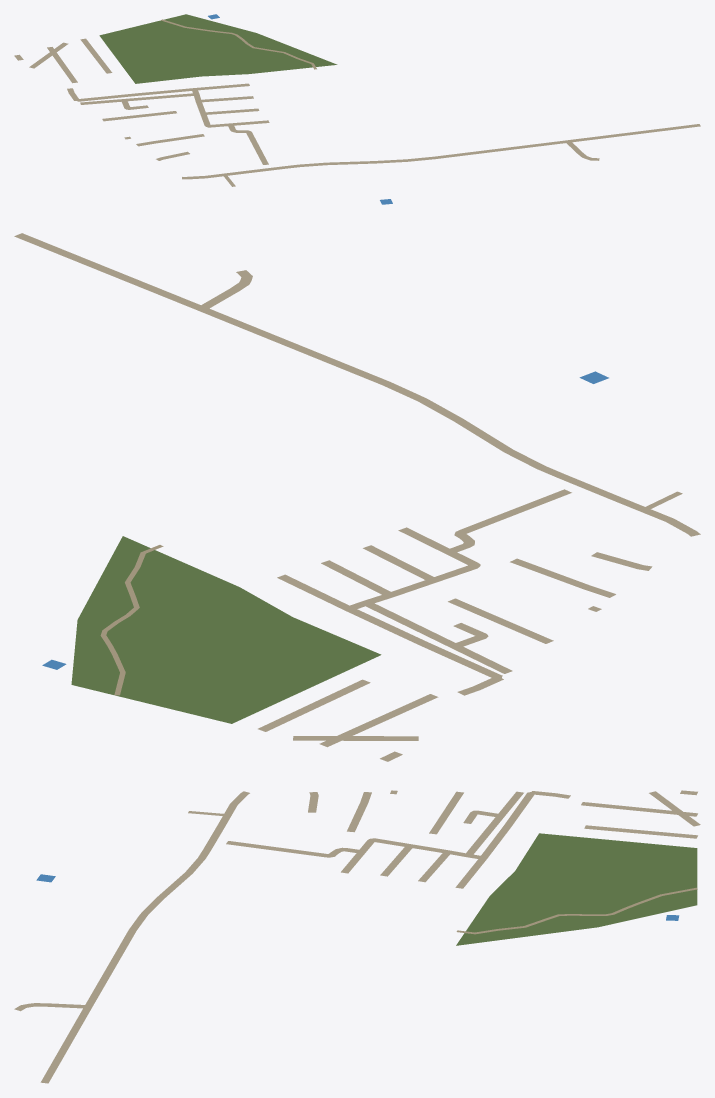
3 views of the same model, one above another, from view 1: azimuth 30°, elevation 25°; view 2: azimuth 150°, elevation 25°; view 3: azimuth 270°, elevation 25° (orthographic). The views are drawn at different scales.
Visible parts, largest first — view 1: ground; view 2: ground; view 3: ground.
Boxes of the visible parts, bbox=[...] form: ground: bbox=[14, 14, 700, 186]; ground: bbox=[14, 233, 700, 761]; ground: bbox=[14, 790, 700, 1083].
Bounding box in the file's own units: 504 × 0.8 × 499.
